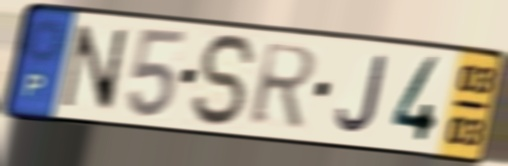4: (388, 52, 441, 147)
5: (124, 27, 192, 122)
J: (333, 53, 389, 136)
N: (59, 21, 130, 115)
R: (246, 40, 320, 130)
S: (190, 31, 262, 130)
